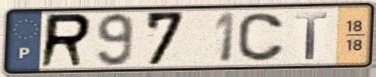1: (212, 10, 237, 66)
7: (142, 11, 186, 69)
9: (94, 11, 136, 69)
C: (236, 11, 288, 63)
R: (36, 12, 94, 70)
T: (294, 11, 330, 61)
